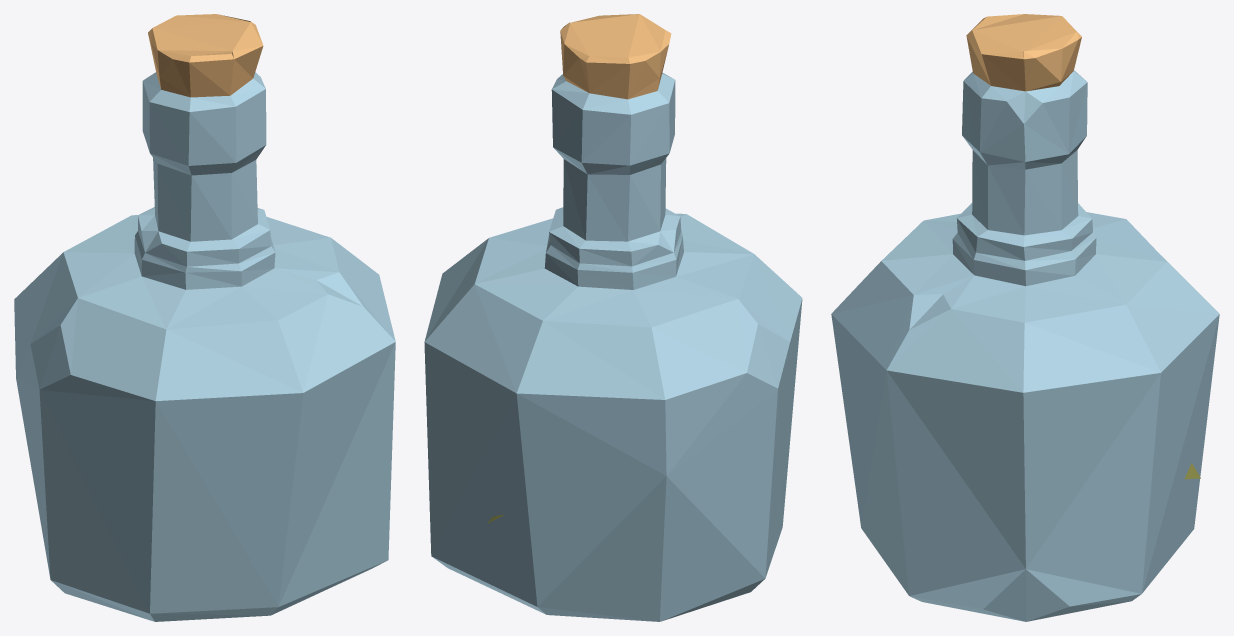
The model's file is SFHW_Bottle_Herbs_015.fbx.
3 views of the same model, side by side, from view 1: azimuth 30°, elevation 25°; view 2: azimuth 150°, elevation 25°; view 3: azimuth 270°, elevation 25° (orthographic).
Visible parts, largest first — view 1: SFHW_Bottle_Herbs_015; view 2: SFHW_Bottle_Herbs_015; view 3: SFHW_Bottle_Herbs_015.
Part boxes in pixels (box(x1,y1,x2,y2)): SFHW_Bottle_Herbs_015: box(14, 14, 395, 621); SFHW_Bottle_Herbs_015: box(424, 14, 802, 621); SFHW_Bottle_Herbs_015: box(831, 14, 1219, 621).
Bounding box in the file's own units: 17.86 × 26.63 × 18.04.
